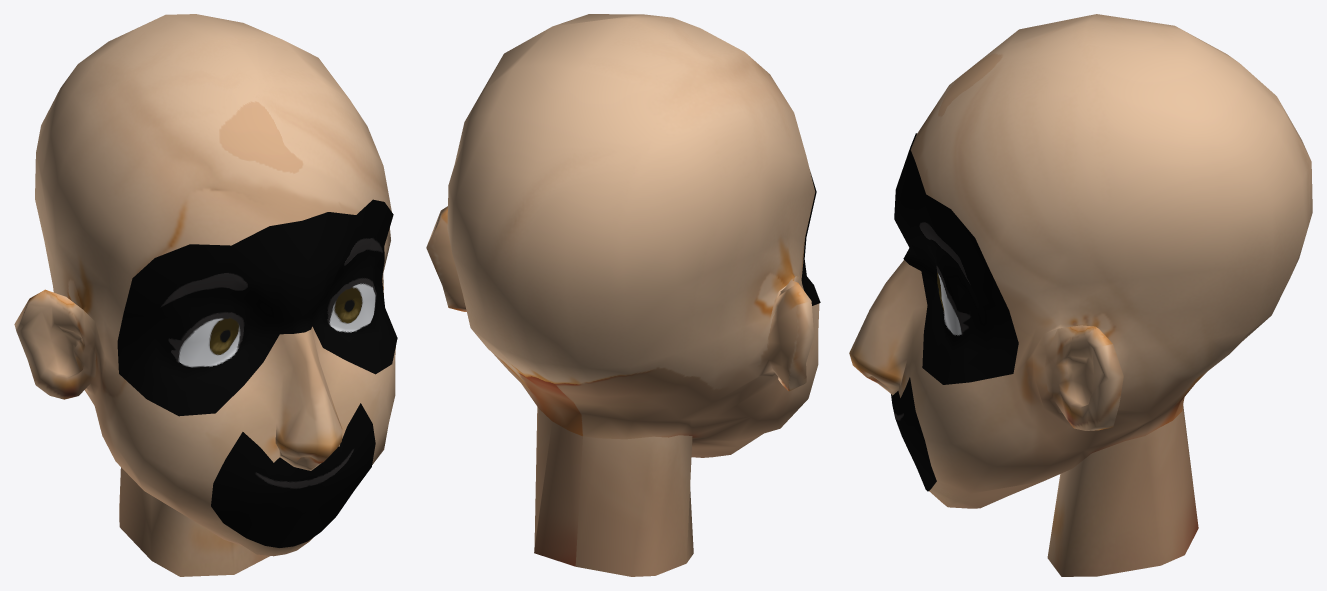
The model's file is F_Head_00.fbx.
3 renders of one model, left to right at view 1: azimuth 30°, elevation 25°; view 2: azimuth 150°, elevation 25°; view 3: azimuth 270°, elevation 25°, orthographic. The views are drawn at different scales.
Parts seen in each view (by area): view 1: MDL_F_Head_00; view 2: MDL_F_Head_00; view 3: MDL_F_Head_00.
Boxes of the visible parts, <box> form: MDL_F_Head_00: <box>14,14,397,576</box>; MDL_F_Head_00: <box>426,14,820,576</box>; MDL_F_Head_00: <box>849,14,1312,576</box>.
Size of the model in its own units: 3.71 by 4.92 by 3.91.
